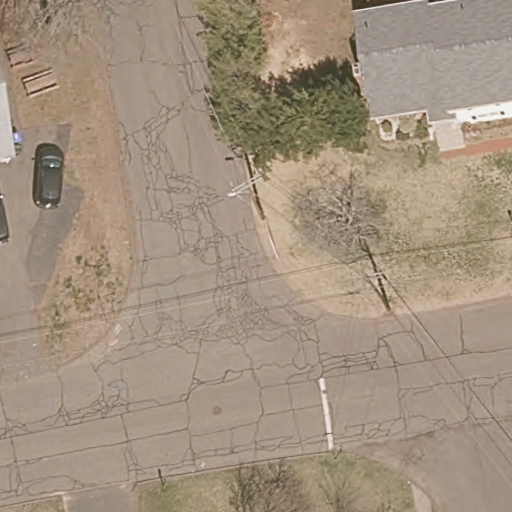DT: (224, 150, 268, 219), (360, 239, 392, 312)
